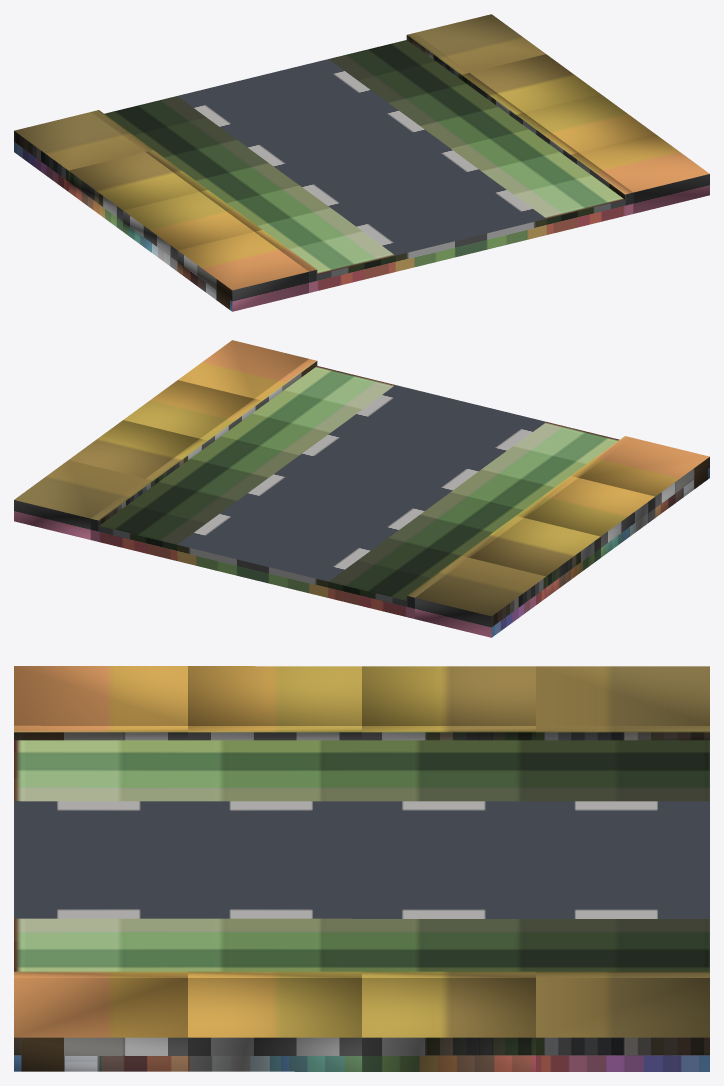
File: way.fbx
3 views of the same model, one above another, from view 1: azimuth 30°, elevation 25°; view 2: azimuth 150°, elevation 25°; view 3: azimuth 270°, elevation 25° (orthographic). The views are drawn at different scales.
Parts seen in each view (by area): view 1: SM_Tile_Cube_Road3Lane_01; view 2: SM_Tile_Cube_Road3Lane_01; view 3: SM_Tile_Cube_Road3Lane_01.
Part boxes in pixels (bbox=[...]): SM_Tile_Cube_Road3Lane_01: bbox=[14, 14, 709, 311]; SM_Tile_Cube_Road3Lane_01: bbox=[14, 340, 709, 637]; SM_Tile_Cube_Road3Lane_01: bbox=[14, 666, 709, 1071].
Size of the model in its own units: 10.11 by 0.4333 by 8.
